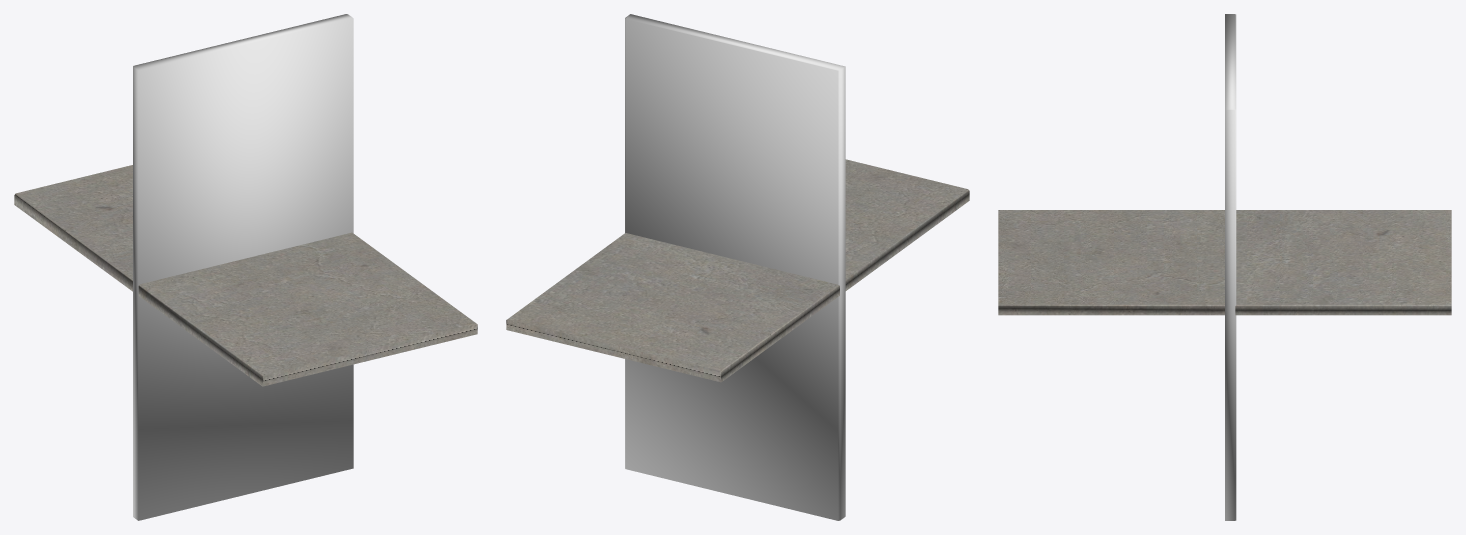
The model's file is SM_Sidewalk_Large.fbx.
3 views of the same model, side by side, from view 1: azimuth 30°, elevation 25°; view 2: azimuth 150°, elevation 25°; view 3: azimuth 270°, elevation 25° (orthographic). The views are drawn at different scales.
Visible parts, largest first — view 1: SM_Sidewalk_Large_ConvexHulls, SM_Sidewalk_Large; view 2: SM_Sidewalk_Large_ConvexHulls, SM_Sidewalk_Large; view 3: SM_Sidewalk_Large, SM_Sidewalk_Large_ConvexHulls.
Boxes of the visible parts, x1,y1,x2,y2 form: SM_Sidewalk_Large_ConvexHulls: (133, 14, 353, 520); SM_Sidewalk_Large: (14, 165, 477, 386); SM_Sidewalk_Large_ConvexHulls: (625, 14, 845, 520); SM_Sidewalk_Large: (506, 159, 969, 382); SM_Sidewalk_Large: (998, 210, 1451, 315); SM_Sidewalk_Large_ConvexHulls: (1225, 14, 1236, 520).
Bounding box in the file's own units: 2 × 4 × 4.
